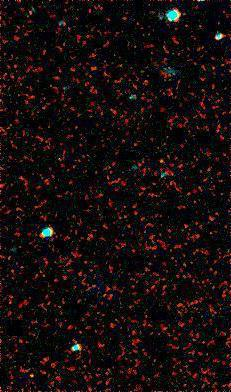star: (146, 146, 176, 176)
